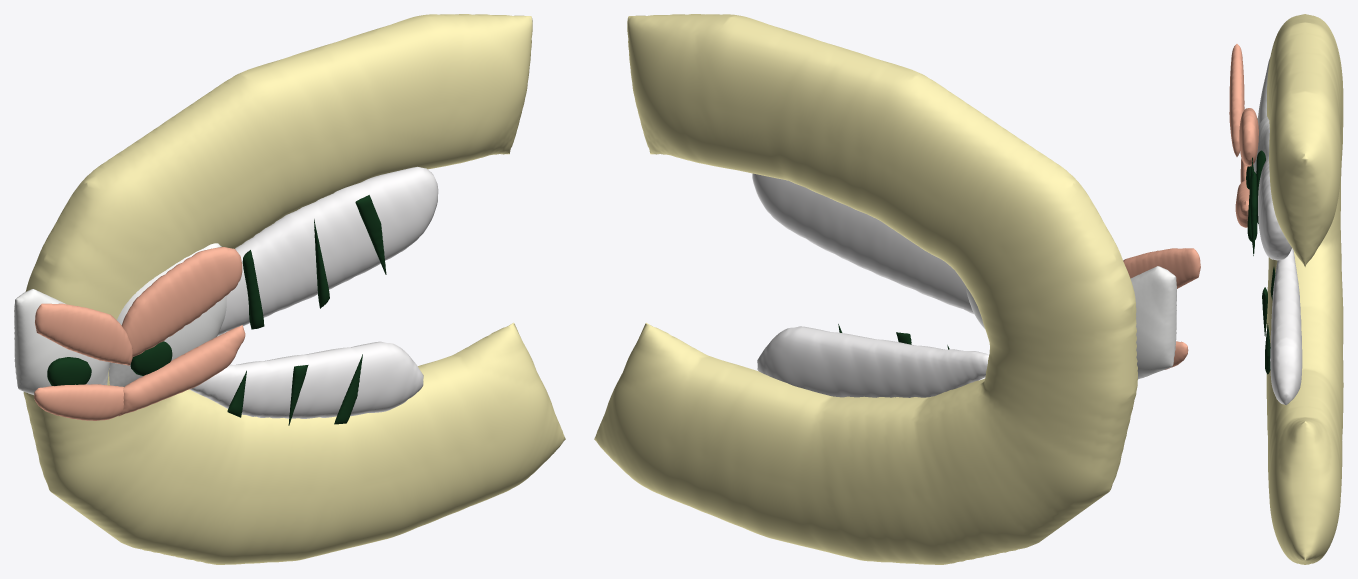
The model's file is c_alphabet_lore.glb.
3 renders of one model, left to right at view 1: azimuth 30°, elevation 25°; view 2: azimuth 150°, elevation 25°; view 3: azimuth 270°, elevation 25°, orthographic. The views are drawn at different scales.
Parts seen in each view (by area): view 1: root_Material_44_0, root_Material_80_0, root_Material_84_0, root_Material_72_0, root_Material_64_0, root_Material_76_0, root_Material_52_0, root_Material_68_0, root_Material_48_0, root_Material_60_0, root_Material_100_0, root_Material_108_0 (+2 smaller); view 2: root_Material_44_0, root_Material_84_0, root_Material_80_0, root_Material_52_0, root_Material_76_0; view 3: root_Material_44_0, root_Material_84_0, root_Material_80_0, root_Material_76_0, root_Material_72_0, root_Material_64_0, root_Material_108_0, root_Material_48_0, root_Material_52_0, root_Material_100_0, root_Material_104_0, root_Material_120_0 (+1 smaller).
Boxes of the visible parts, left/top/right/bottom form: root_Material_44_0: left=23, top=14, right=565, bottom=564; root_Material_80_0: left=217, top=166, right=438, bottom=335; root_Material_84_0: left=189, top=341, right=423, bottom=418; root_Material_72_0: left=121, top=247, right=242, bottom=356; root_Material_64_0: left=119, top=325, right=245, bottom=415; root_Material_76_0: left=35, top=303, right=132, bottom=365; root_Material_52_0: left=14, top=289, right=110, bottom=394; root_Material_68_0: left=34, top=384, right=123, bottom=420; root_Material_48_0: left=109, top=243, right=226, bottom=386; root_Material_60_0: left=47, top=357, right=91, bottom=385; root_Material_100_0: left=242, top=250, right=264, bottom=329; root_Material_108_0: left=355, top=195, right=386, bottom=274; root_Material_44_0: left=594, top=14, right=1137, bottom=564; root_Material_84_0: left=757, top=326, right=988, bottom=397; root_Material_80_0: left=752, top=173, right=973, bottom=313; root_Material_52_0: left=1130, top=266, right=1176, bottom=379; root_Material_76_0: left=1123, top=248, right=1200, bottom=288; root_Material_44_0: left=1266, top=14, right=1343, bottom=564; root_Material_84_0: left=1270, top=248, right=1302, bottom=404; root_Material_80_0: left=1258, top=156, right=1291, bottom=260; root_Material_76_0: left=1229, top=44, right=1244, bottom=156; root_Material_72_0: left=1239, top=108, right=1258, bottom=166; root_Material_64_0: left=1235, top=180, right=1249, bottom=227; root_Material_108_0: left=1250, top=171, right=1257, bottom=255; root_Material_48_0: left=1253, top=116, right=1269, bottom=173; root_Material_52_0: left=1257, top=57, right=1270, bottom=125; root_Material_100_0: left=1256, top=150, right=1265, bottom=223; root_Material_104_0: left=1247, top=157, right=1257, bottom=242; root_Material_120_0: left=1265, top=323, right=1270, bottom=374.
Bounding box in the file's own units: 0.00689 × 0.00586 × 0.00133.
